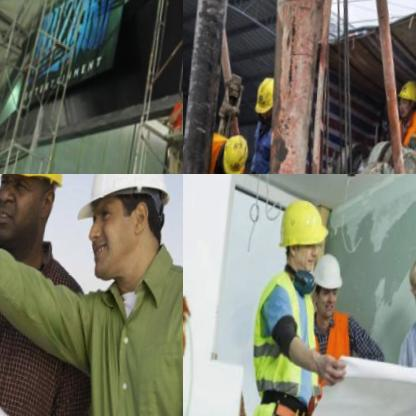helmet: (72, 174, 183, 303), (0, 174, 79, 257), (275, 195, 334, 279), (309, 248, 351, 326), (222, 129, 254, 174), (254, 74, 279, 131), (396, 78, 416, 123)
